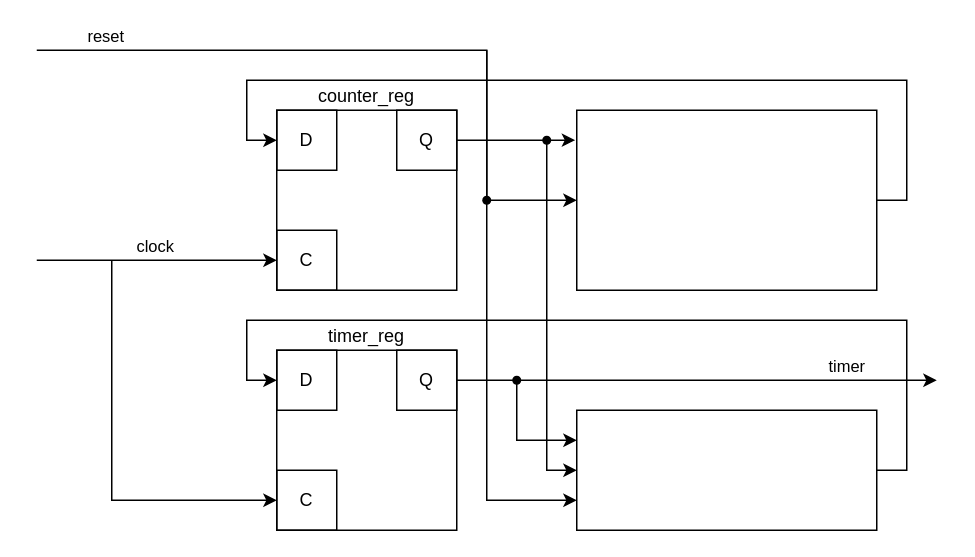
The diagram is 975 pixels wide and 557 high, and some of its shapes have lost their labels. The centre of each missing label's shape, as x and y in pixels:
"reset ? 0 : (counter_reg == 999999 ? 0 : counter_reg + 1)" belongs at (726,199).
"reset ? 0 : (counter_reg == 999999 ? timer_reg + 1 : 0)" belongs at (726,469).
